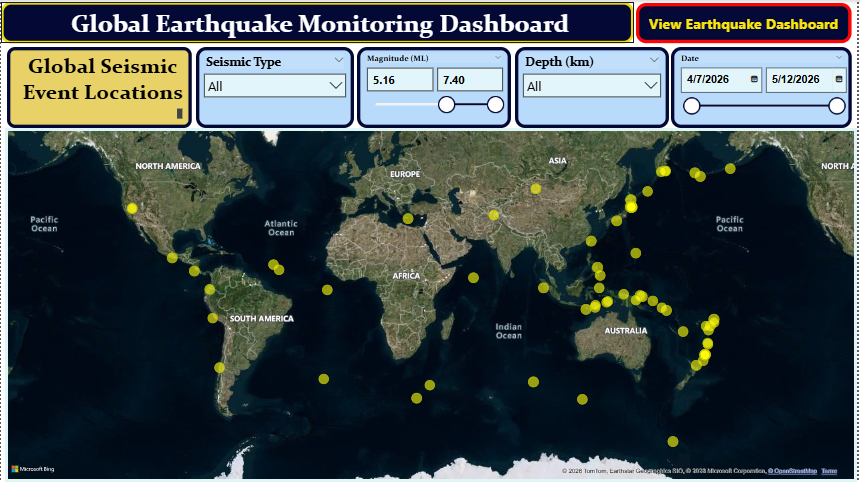

The dashboard page shown, as its layout file describes it:
{"tool":"powerbi","page":{"name":"Map View","canvas":[1280,720],"ordinal":0},"visuals":[{"type":"map","title":"Earthquake vs Location","fields":{"Size":["Avg(all_month (1).mag)"],"Series":["all_month (1).type"],"Y":["all_month (1).latitude"],"X":["all_month (1).longitude"]},"box":[6.7,191.5,1273.3,529.1],"z":0},{"type":"textbox","title":"Global Earthquake Monitoring Dashboard","box":[0,2.9,944.8,61.7],"z":1000},{"type":"actionButton","title":"Earthquake Location","box":[949.2,4.4,321.8,60.2],"z":2000},{"type":"slicer","fields":{"Values":["all_month.time"]},"box":[1001.2,70.6,270.4,120.9],"z":3000},{"type":"slicer","fields":{"Values":["all_month.mag"]},"box":[532.5,70.6,230.1,120.9],"z":4000},{"type":"textbox","title":"Global Seismic Event Locations","box":[9,70.2,276.3,121],"z":5000},{"type":"slicer","fields":{"Values":["all_month.Depth Category"]},"box":[767.7,70.6,230.1,120.9],"z":6000},{"type":"slicer","fields":{"Values":["all_month.type"]},"box":[291.3,70.2,236,121],"z":7000}]}

Visuals, with their boxes in screenshot pixels (x1, y1, x2, y2), scaled from the page's 1280x720 canvas onto the 860x482 screenshot:
"Earthquake vs Location" map: <box>5,128,859,481</box>
"Global Earthquake Monitoring Dashboard" textbox: <box>0,2,635,43</box>
"Earthquake Location" actionButton: <box>638,3,854,43</box>
slicer - all_month.time: <box>673,47,854,128</box>
slicer - all_month.mag: <box>358,47,512,128</box>
"Global Seismic Event Locations" textbox: <box>6,47,192,128</box>
slicer - all_month.Depth Category: <box>516,47,670,128</box>
slicer - all_month.type: <box>196,47,354,128</box>
